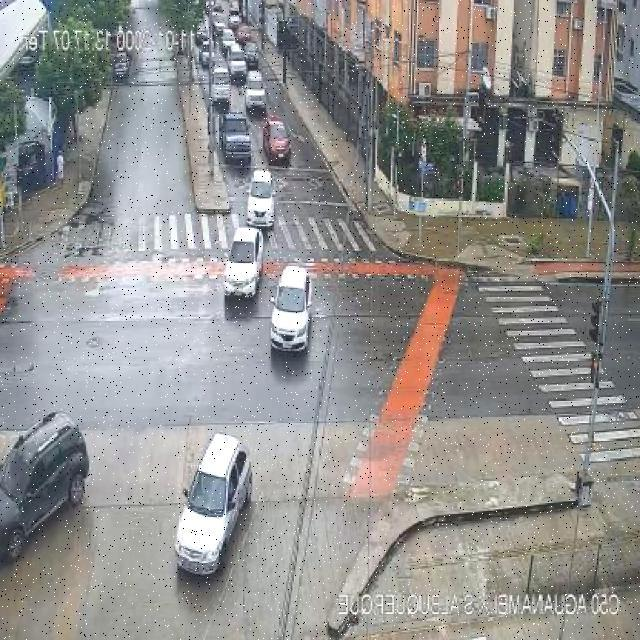Car: (0, 406, 93, 561), (173, 432, 252, 576), (268, 264, 312, 352), (223, 227, 266, 300), (245, 172, 276, 231), (220, 113, 252, 164), (262, 115, 290, 164), (244, 72, 266, 108), (210, 72, 231, 106), (228, 54, 248, 82), (112, 54, 130, 82), (243, 44, 260, 68), (221, 33, 237, 56), (198, 45, 212, 66), (212, 17, 226, 35), (228, 13, 241, 29)
